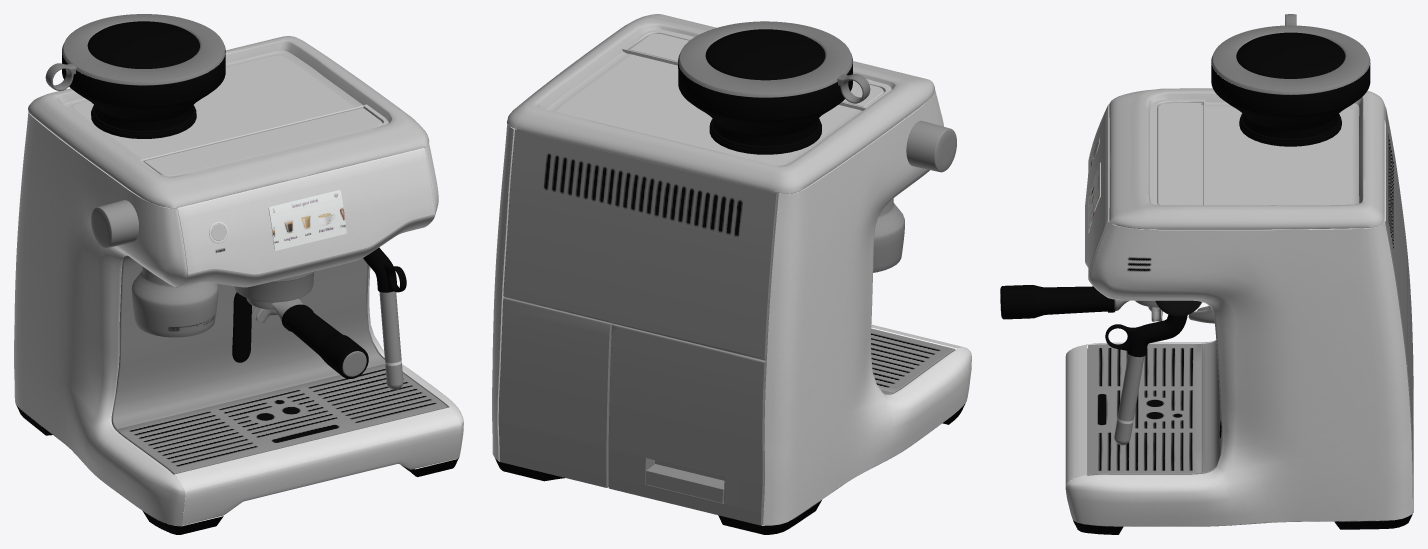
The picture shows the model from 3 angles, left to right: view 1: azimuth 30°, elevation 25°; view 2: azimuth 150°, elevation 25°; view 3: azimuth 270°, elevation 25°; orthographic projection. The views are drawn at different scales.
Parts seen in each view (by area): view 1: Model; view 2: Model; view 3: Model.
Boxes of the visible parts, <box> form: Model: <box>14,14,463,534</box>; Model: <box>492,14,971,534</box>; Model: <box>1000,14,1413,534</box>.
Bounding box in the file's own units: 0.3283 × 0.3825 × 0.3726.
Materials: 1 (1 with a texture image).
